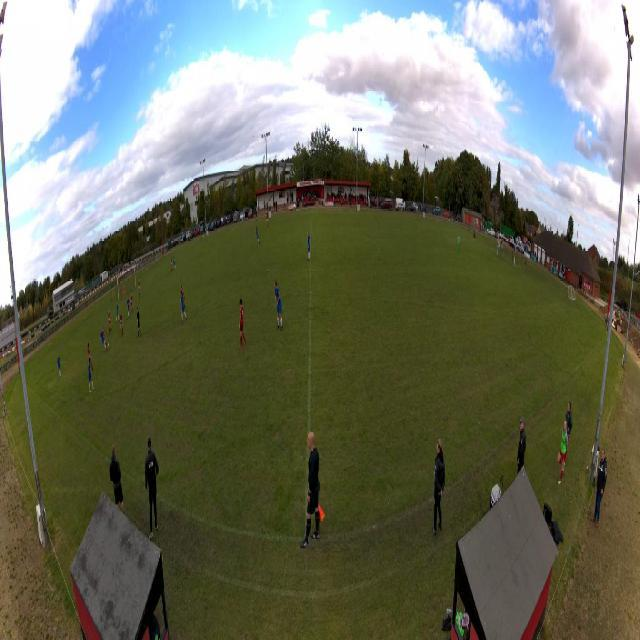ball: (108, 343, 109, 348)
player: (273, 279, 283, 331), (238, 298, 247, 349), (180, 289, 188, 324), (88, 356, 95, 394), (87, 343, 94, 374), (136, 305, 142, 339), (100, 327, 108, 352), (180, 283, 186, 313), (107, 308, 113, 336), (102, 324, 108, 350), (56, 353, 62, 379), (306, 231, 311, 262), (254, 226, 260, 244), (119, 310, 123, 337), (126, 294, 130, 319), (130, 292, 134, 316), (116, 301, 120, 323), (172, 255, 177, 272), (457, 233, 461, 254), (122, 284, 126, 300), (138, 279, 141, 300), (266, 212, 269, 229), (170, 256, 173, 273)
